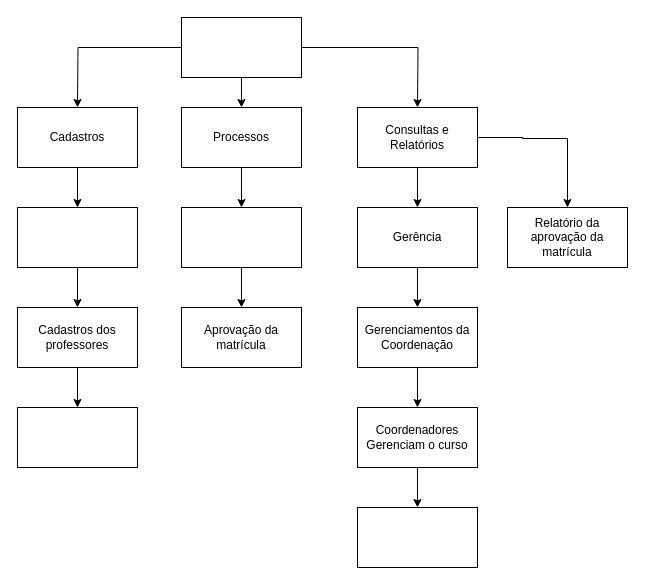
Image size: 645x585. Some labels were removed from this diagram. The shapes that lost their labels are listed below. From the top down, each one's centre as x and y in pixels, then its label:
At (x=241, y=47): "Sistema de Universidade".
At (x=77, y=237): "Cadastro dos coordenadores".
At (x=241, y=237): "Matrícula dos alunos no curso".
At (x=77, y=437): "Cadastro dos alunos".
At (x=417, y=537): "Coordenadores Gerenciam os Professores".
